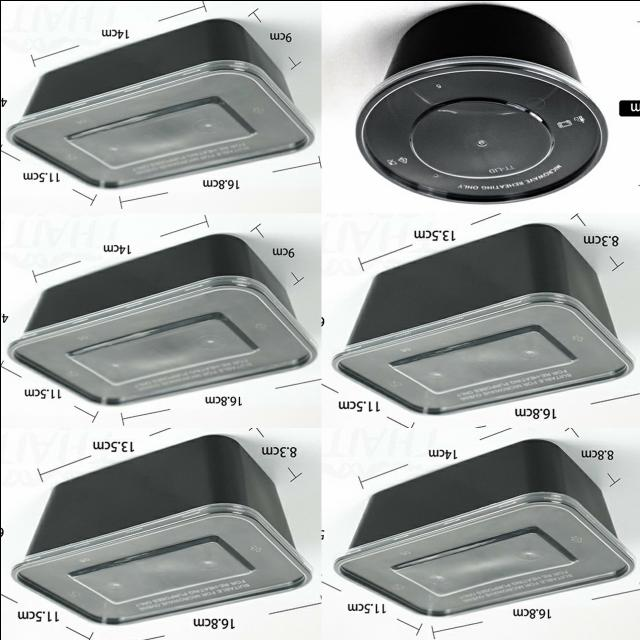plastik: (11, 434, 311, 624), (332, 224, 632, 414), (333, 439, 634, 615), (7, 234, 315, 404), (7, 19, 313, 188), (355, 5, 606, 203)
